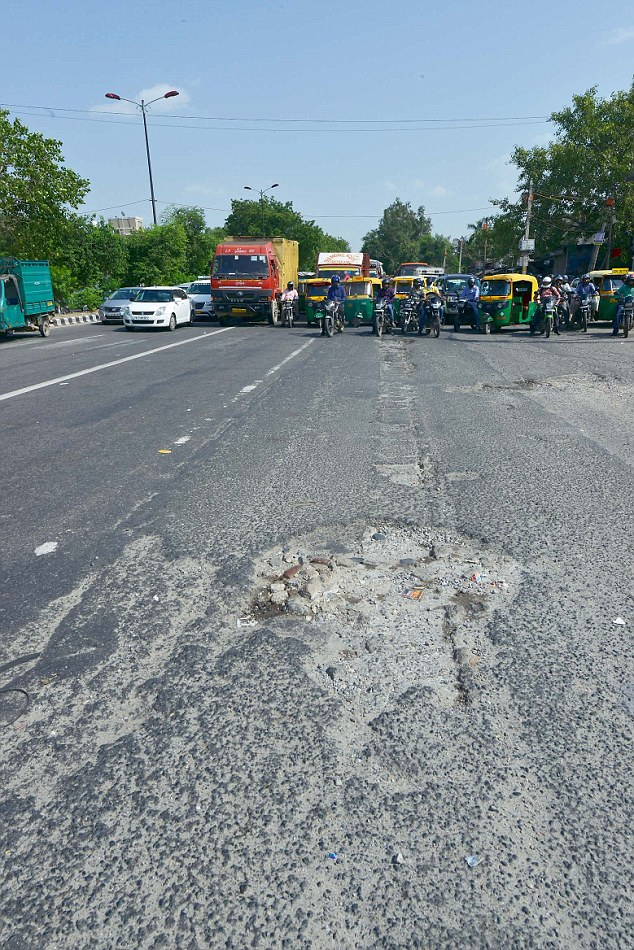pothole: (288, 499, 522, 740)
